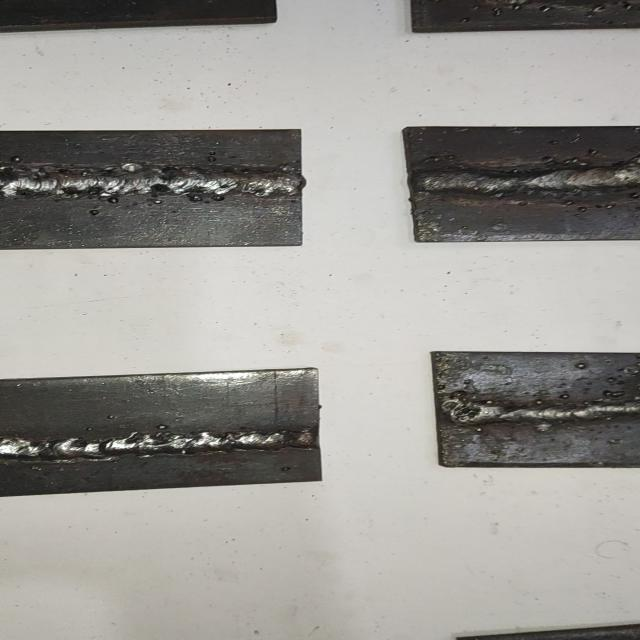Bad Weld: (0, 165, 300, 203), (440, 389, 640, 427)
Defect: (471, 0, 640, 21), (436, 390, 501, 434), (181, 187, 238, 211), (593, 377, 640, 405)
Good Weld: (0, 426, 318, 464), (414, 157, 640, 191)
